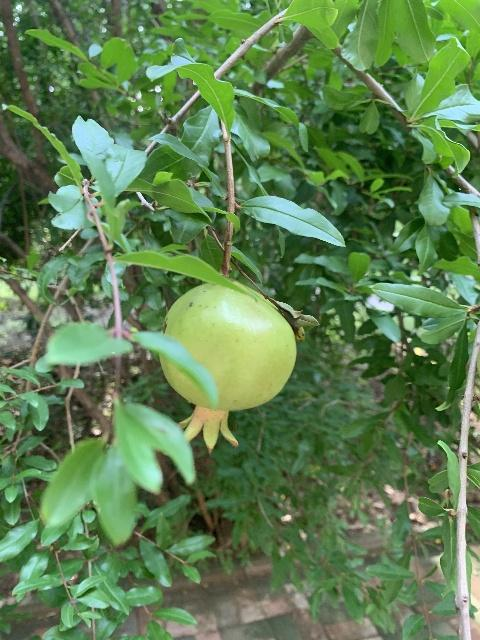mid-growth: (159, 281, 297, 454)
